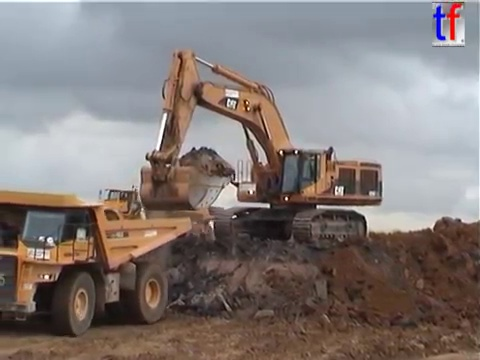excavator: (135, 45, 387, 252)
truck: (1, 187, 196, 340), (93, 182, 229, 240)
